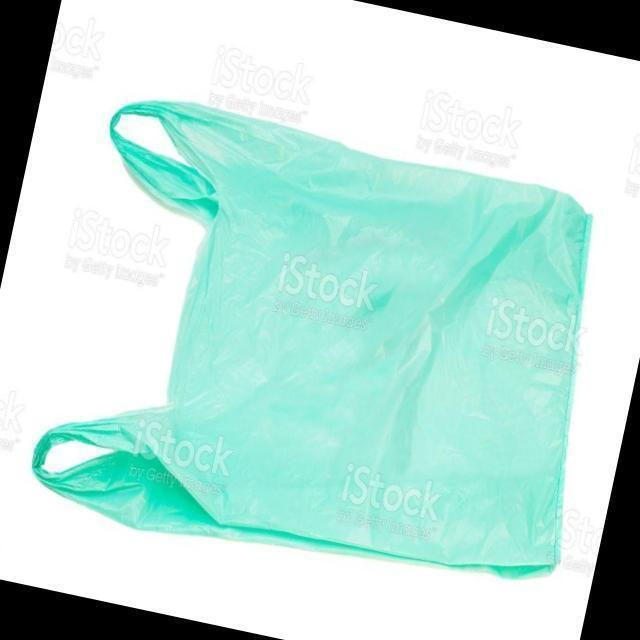Plastic_Bag: (26, 82, 638, 607)
